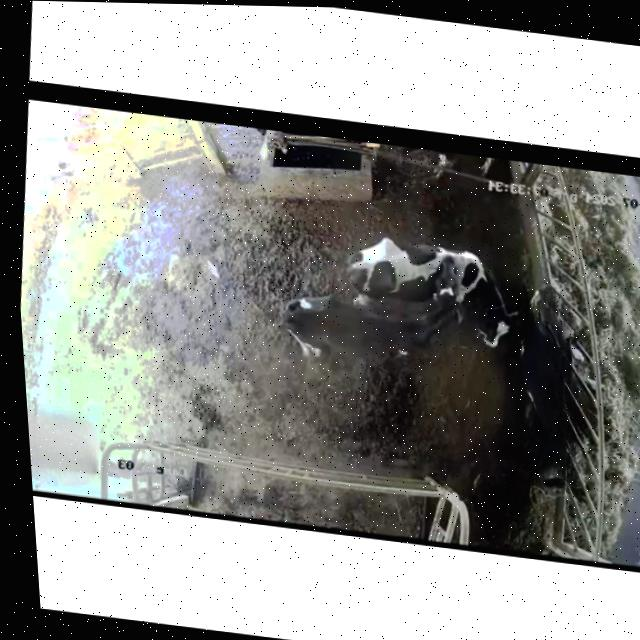propping: (401, 233, 482, 341)
